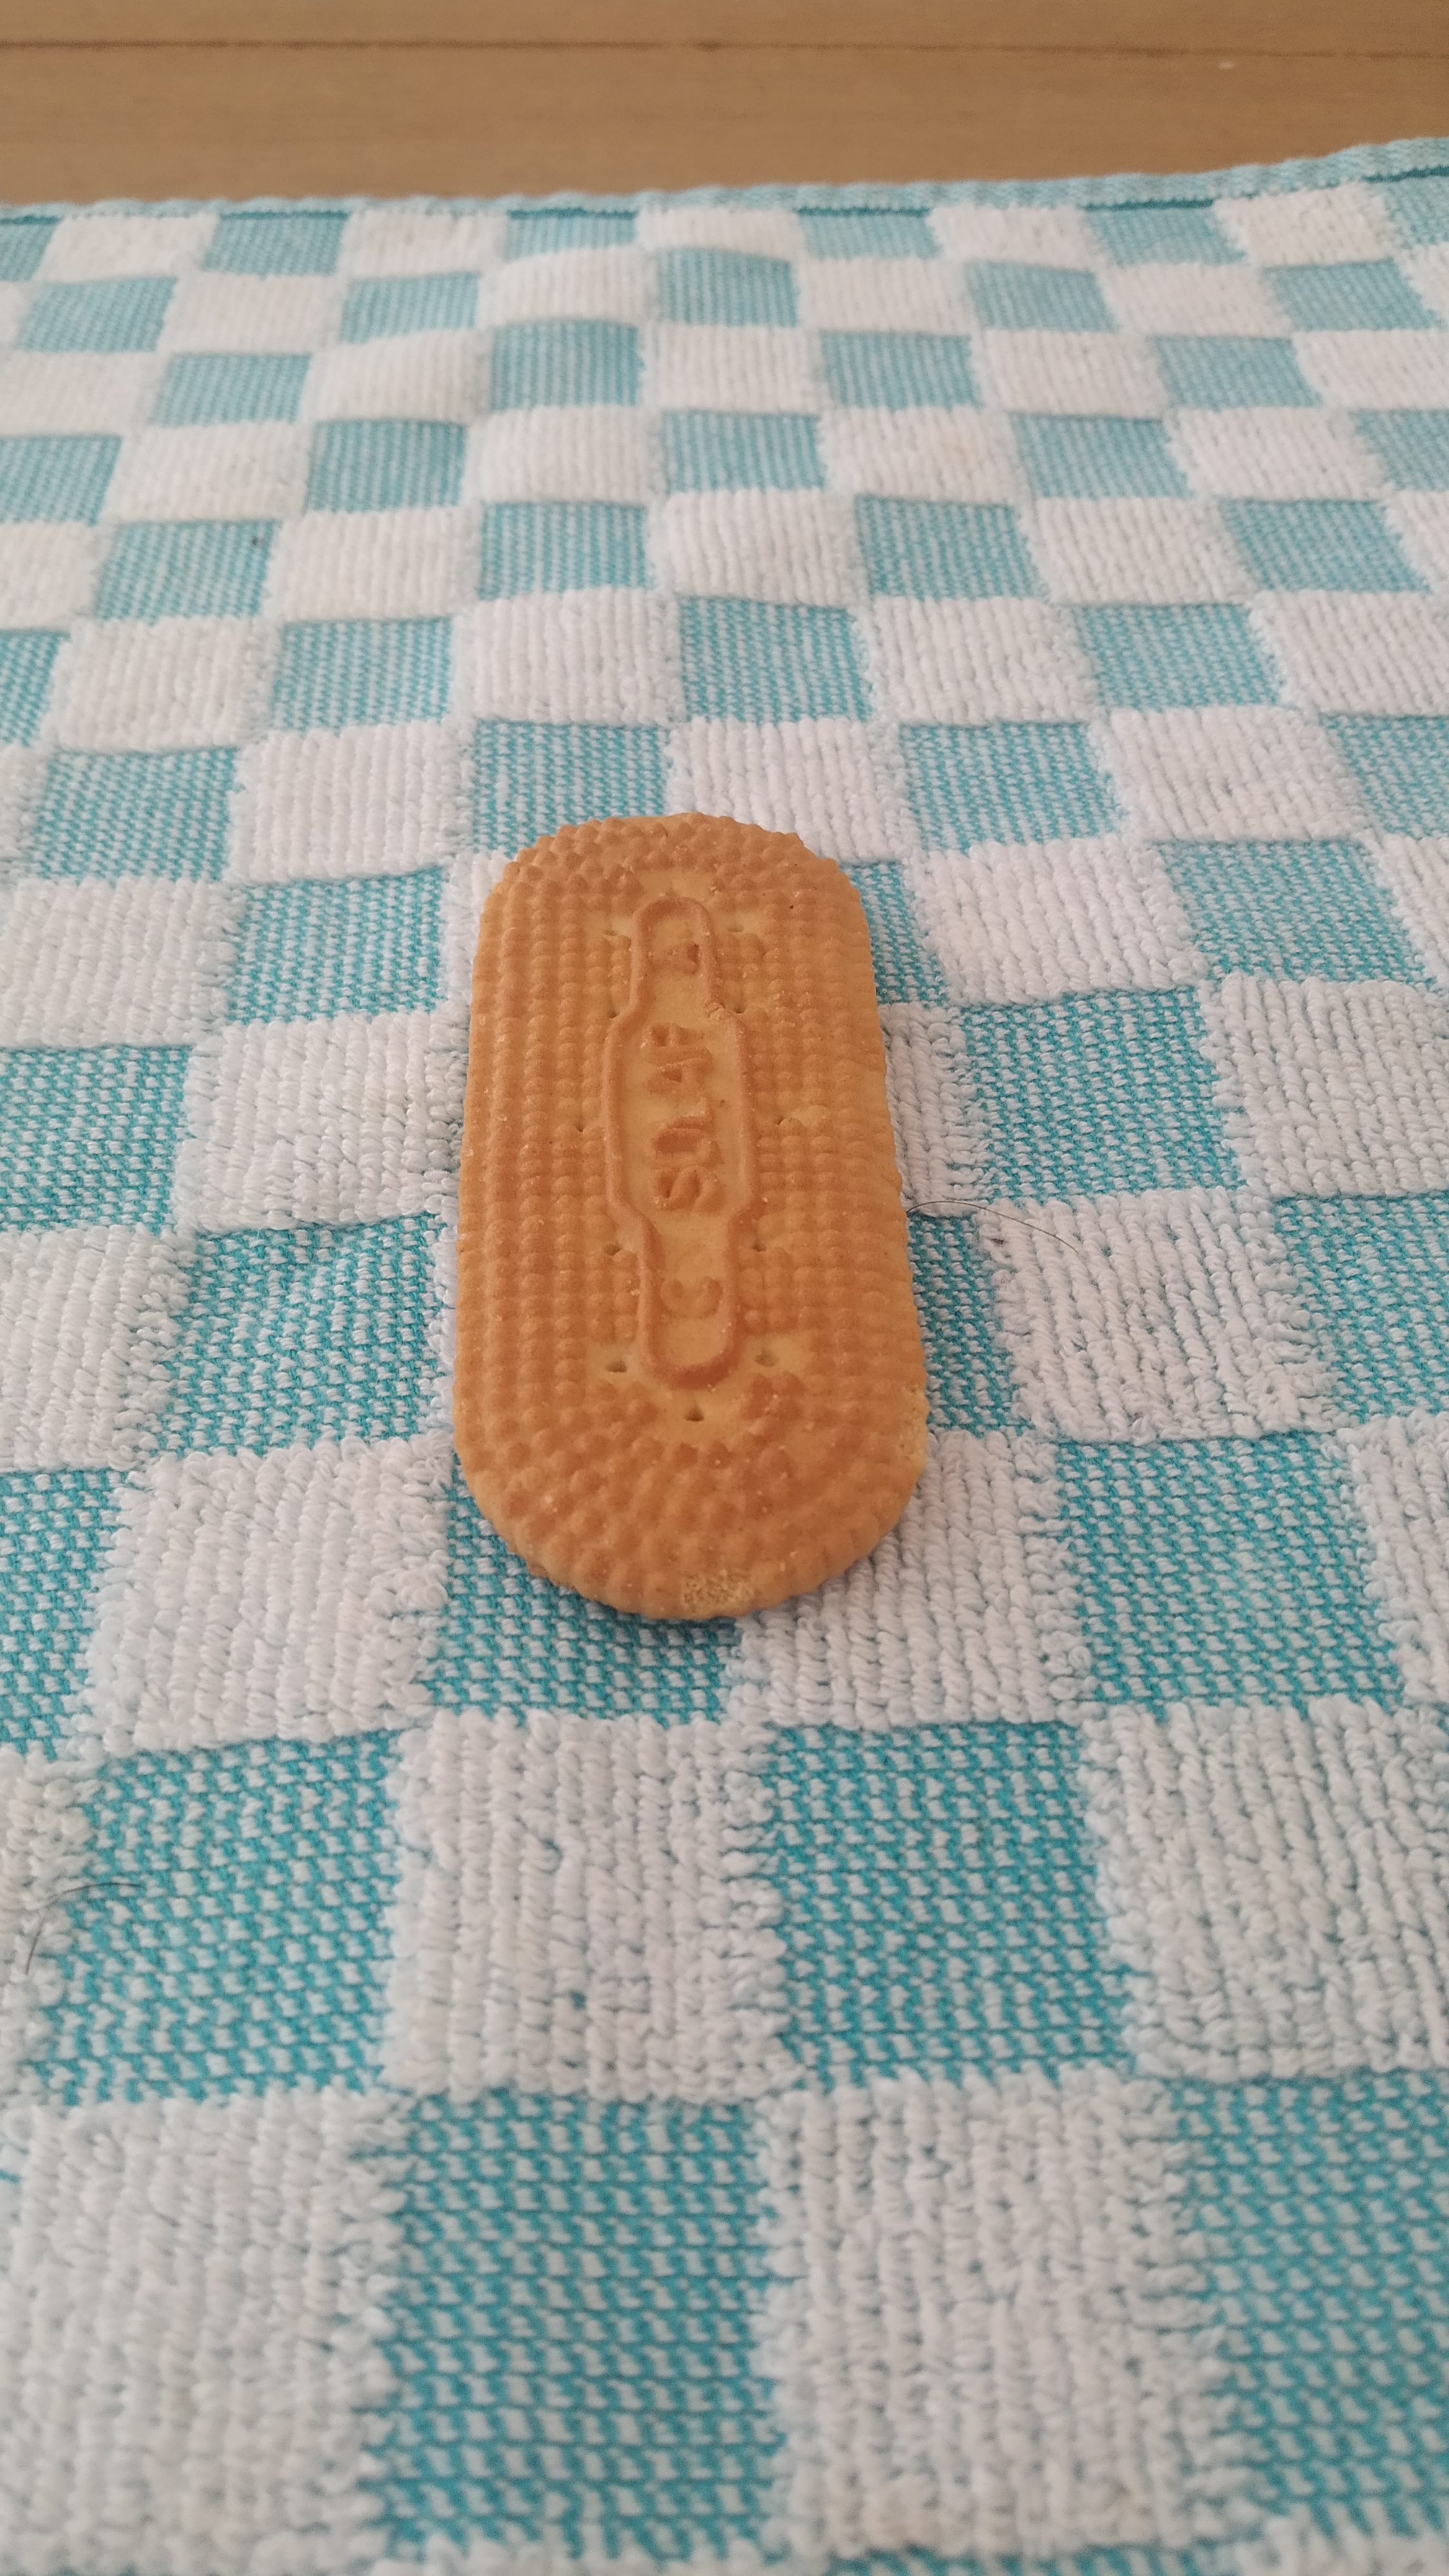solar: (449, 812, 927, 1629)
